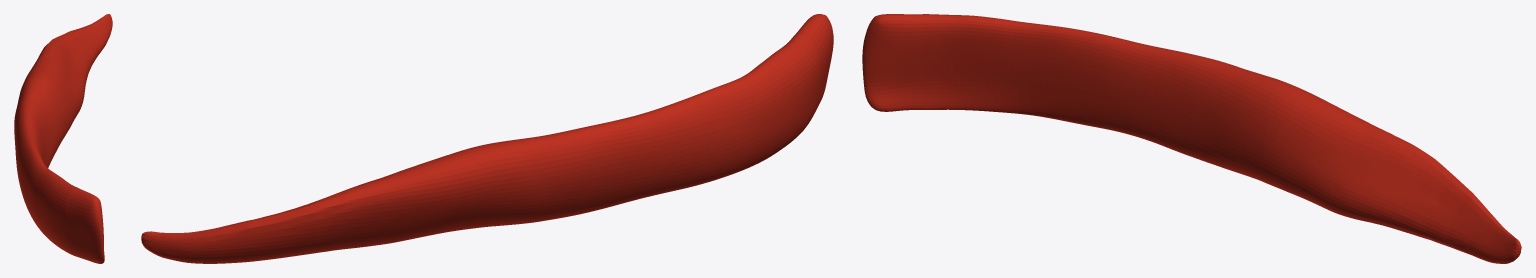
The model's file is frau2-411.glb.
3 views of the same model, side by side, from view 1: azimuth 30°, elevation 25°; view 2: azimuth 150°, elevation 25°; view 3: azimuth 270°, elevation 25° (orthographic). The views are drawn at different scales.
Visible parts, largest first — view 1: VH_F_lateral_rectus_extraocular_muscle_R; view 2: VH_F_lateral_rectus_extraocular_muscle_R; view 3: VH_F_lateral_rectus_extraocular_muscle_R.
Part boxes in pixels (bbox=[...]): VH_F_lateral_rectus_extraocular_muscle_R: bbox=[14, 14, 112, 263]; VH_F_lateral_rectus_extraocular_muscle_R: bbox=[141, 14, 833, 263]; VH_F_lateral_rectus_extraocular_muscle_R: bbox=[862, 14, 1521, 263].
Size of the model in its own units: 0.03 by 0.00799 by 0.0468.
